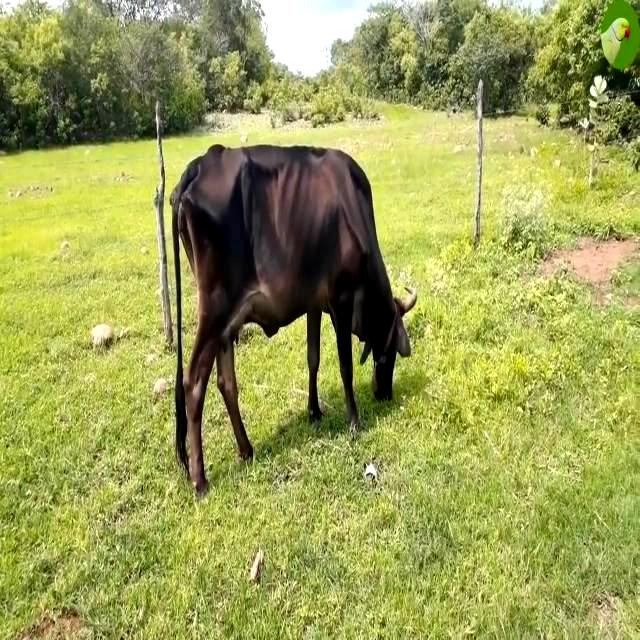COW: (172, 145, 415, 495)
